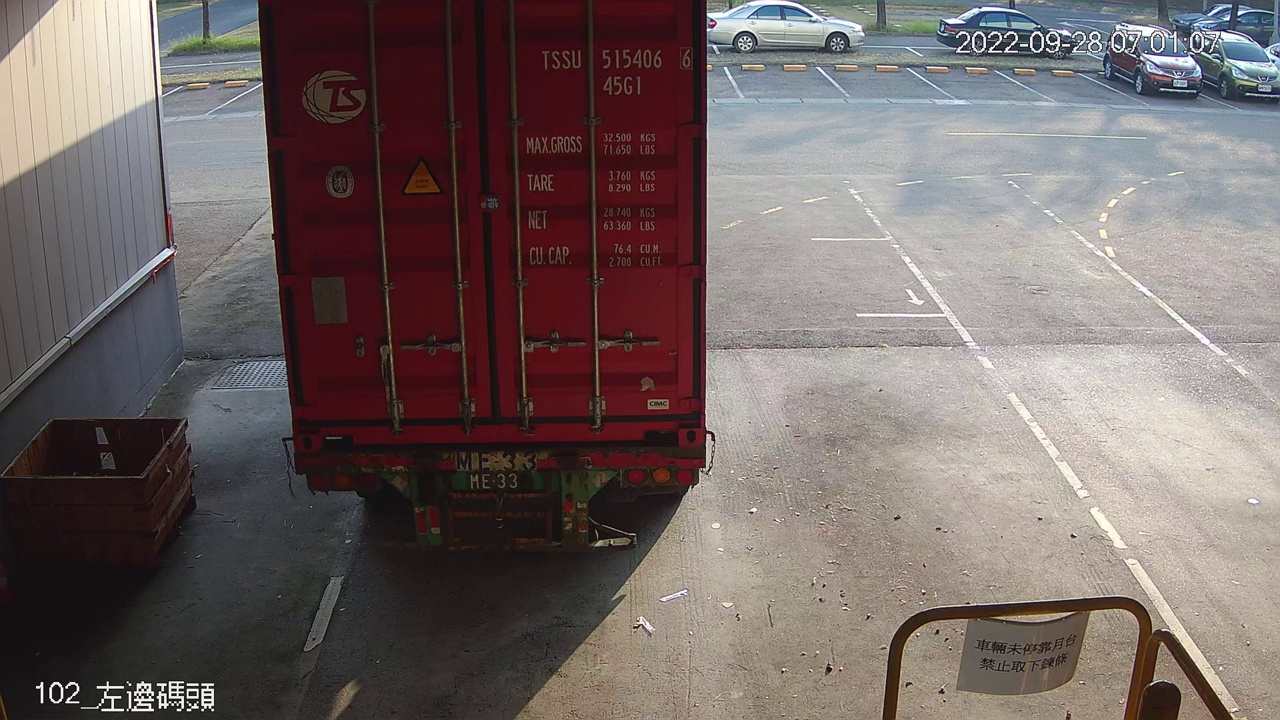container: (531, 38, 699, 101)
